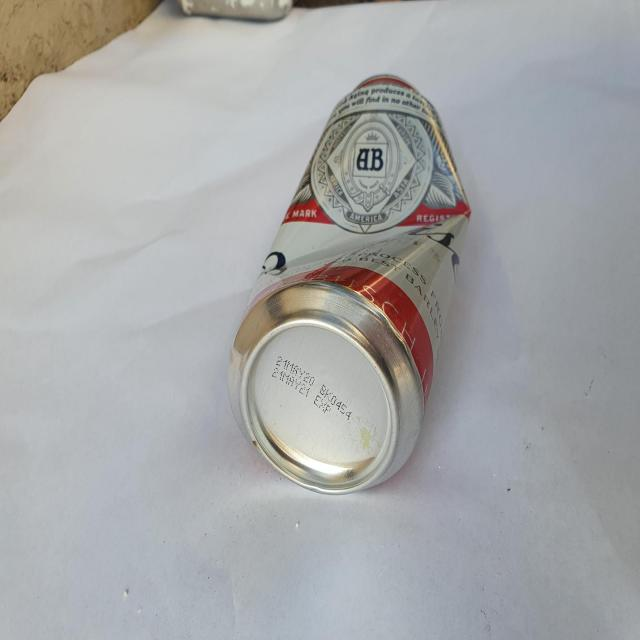can: (228, 74, 471, 494)
